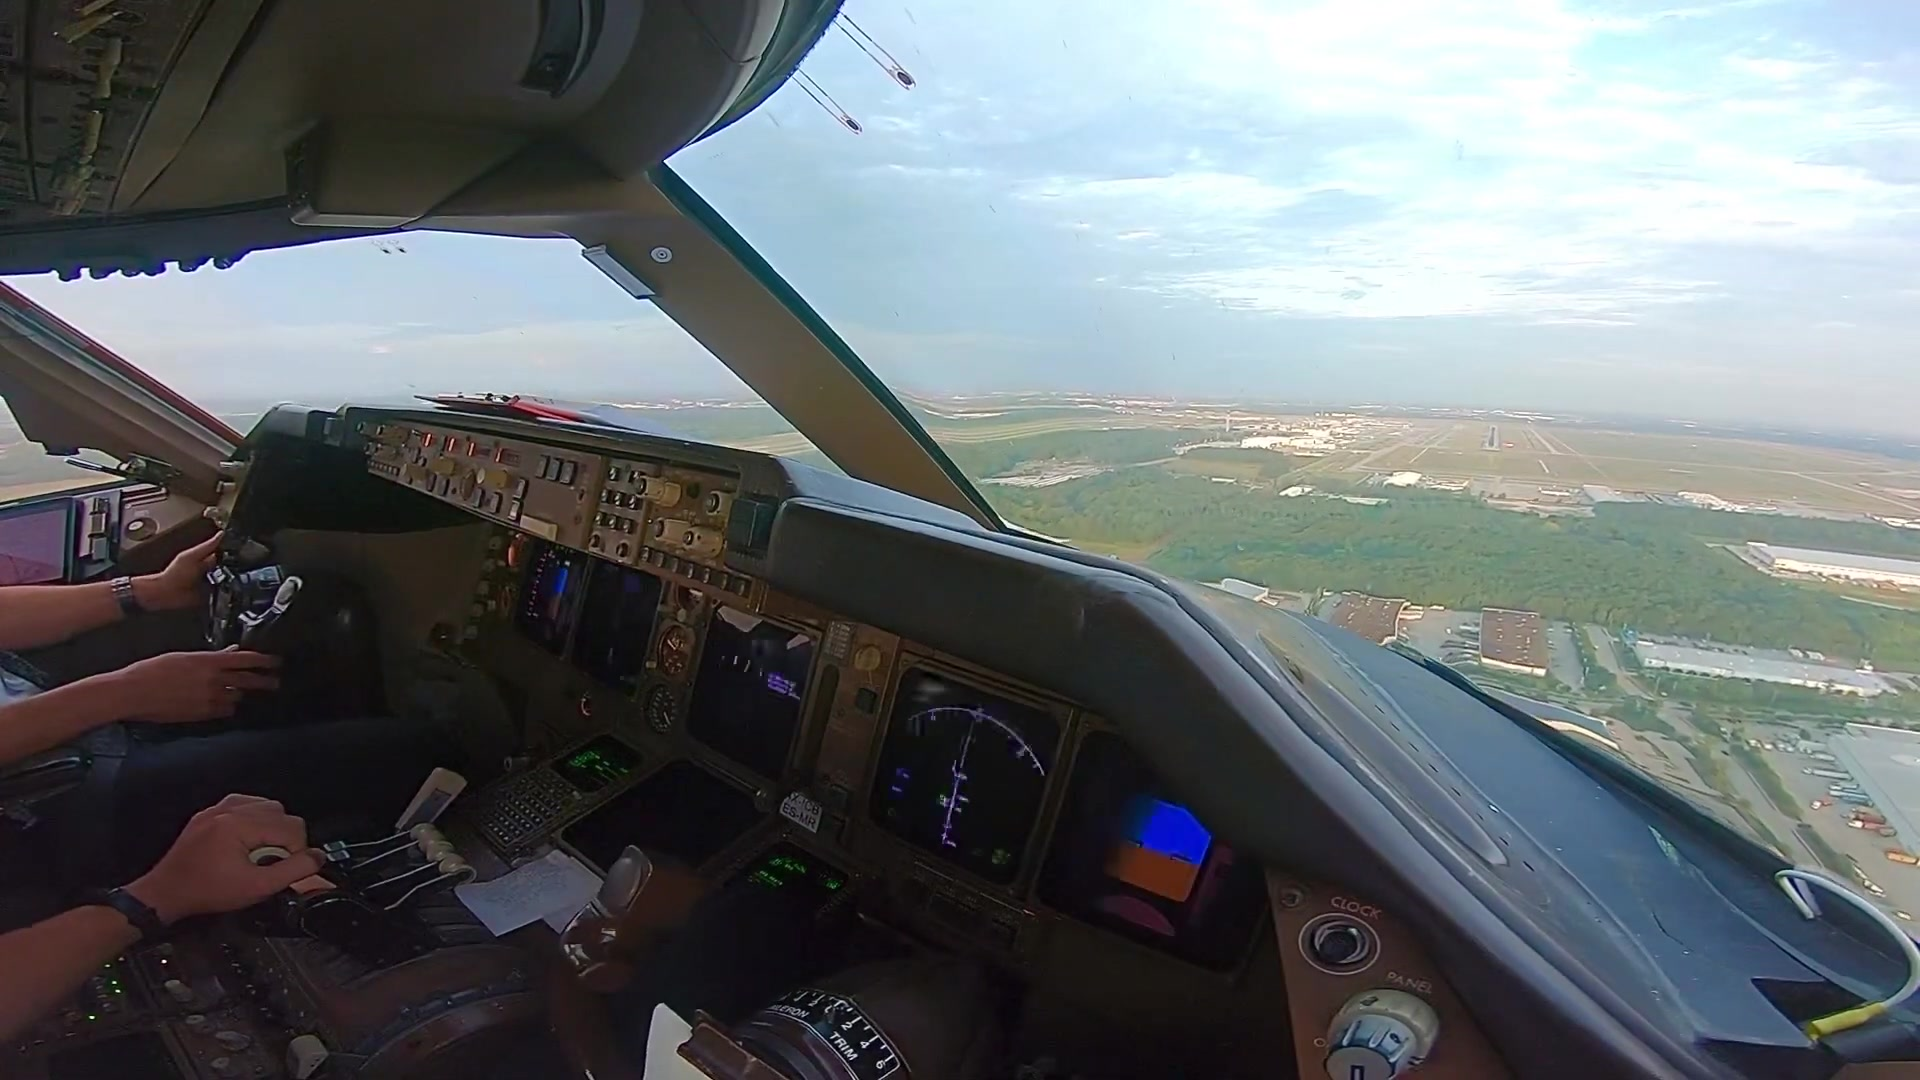runway: (1482, 425, 1501, 452)
